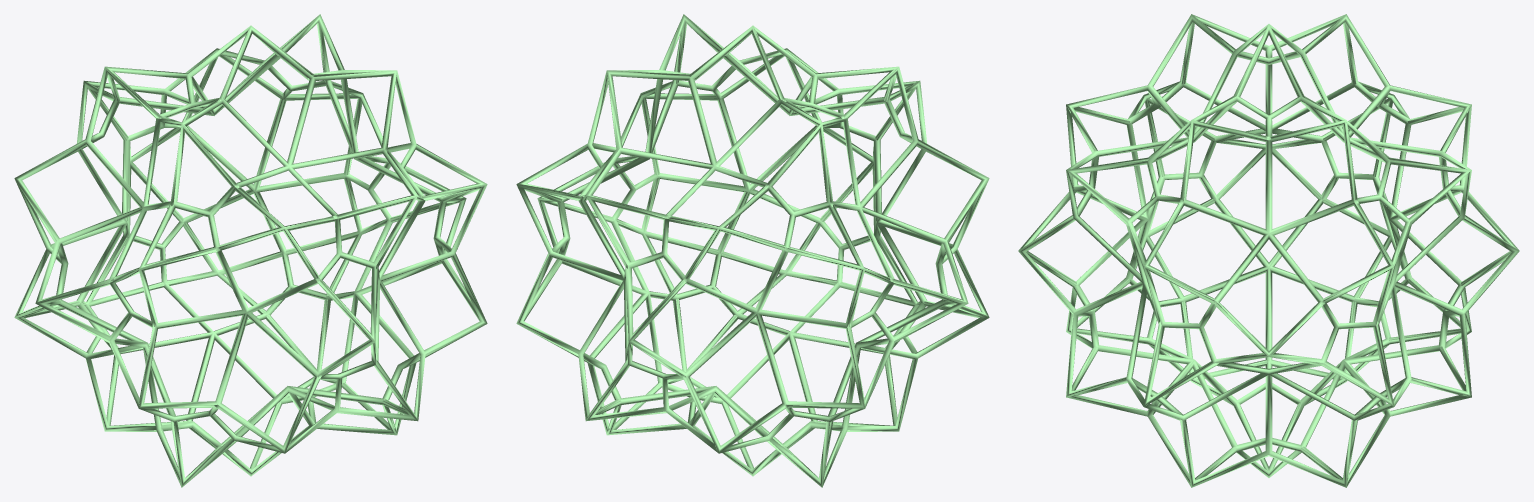
File: IcosidodecahedronK1.glb
The picture shows the model from 3 angles, left to right: view 1: azimuth 30°, elevation 25°; view 2: azimuth 150°, elevation 25°; view 3: azimuth 270°, elevation 25°; orthographic projection.
Parts seen in each view (by area): view 1: Icosidodecahedron; view 2: Icosidodecahedron; view 3: Icosidodecahedron.
Part boxes in pixels (box(x1,y1,x2,y2)): Icosidodecahedron: box(14, 14, 487, 487); Icosidodecahedron: box(516, 14, 989, 487); Icosidodecahedron: box(1018, 14, 1519, 487).
Size of the model in its own units: 3.28 by 3.28 by 3.28.
